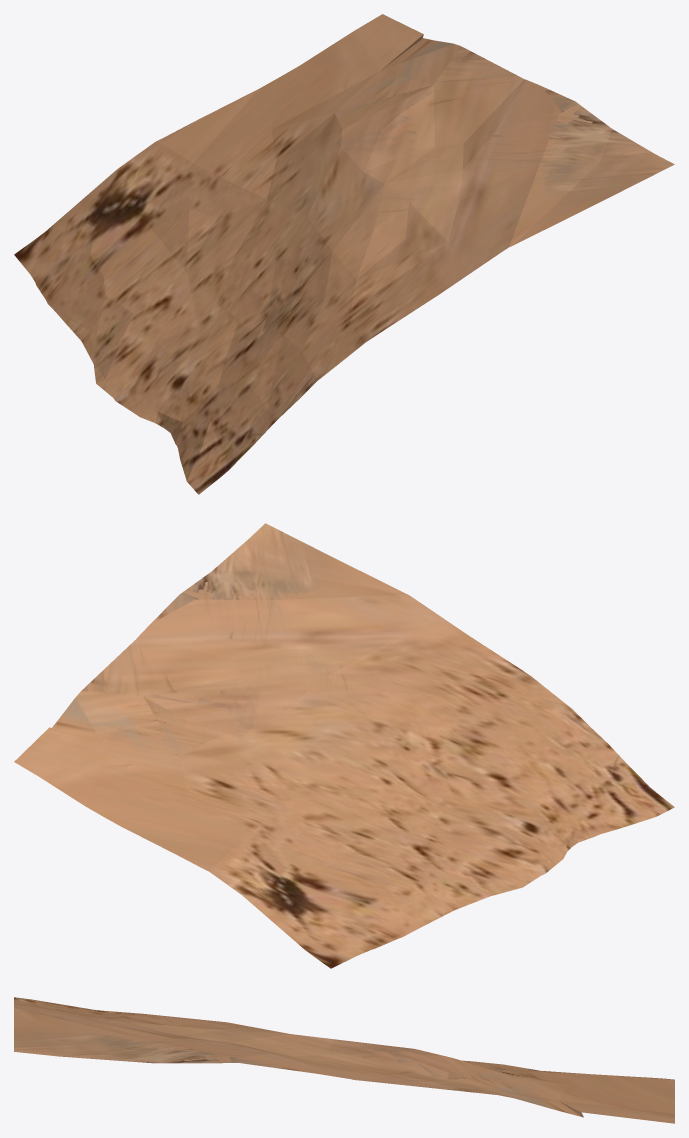
3 renders of one model, top to bottom at view 1: azimuth 30°, elevation 25°; view 2: azimuth 150°, elevation 25°; view 3: azimuth 270°, elevation 25°, orthographic. The views are drawn at different scales.
Bounding box in the file's own units: 0.9823 × 0.4222 × 1.04.
Materials: 2 (2 with a texture image).
